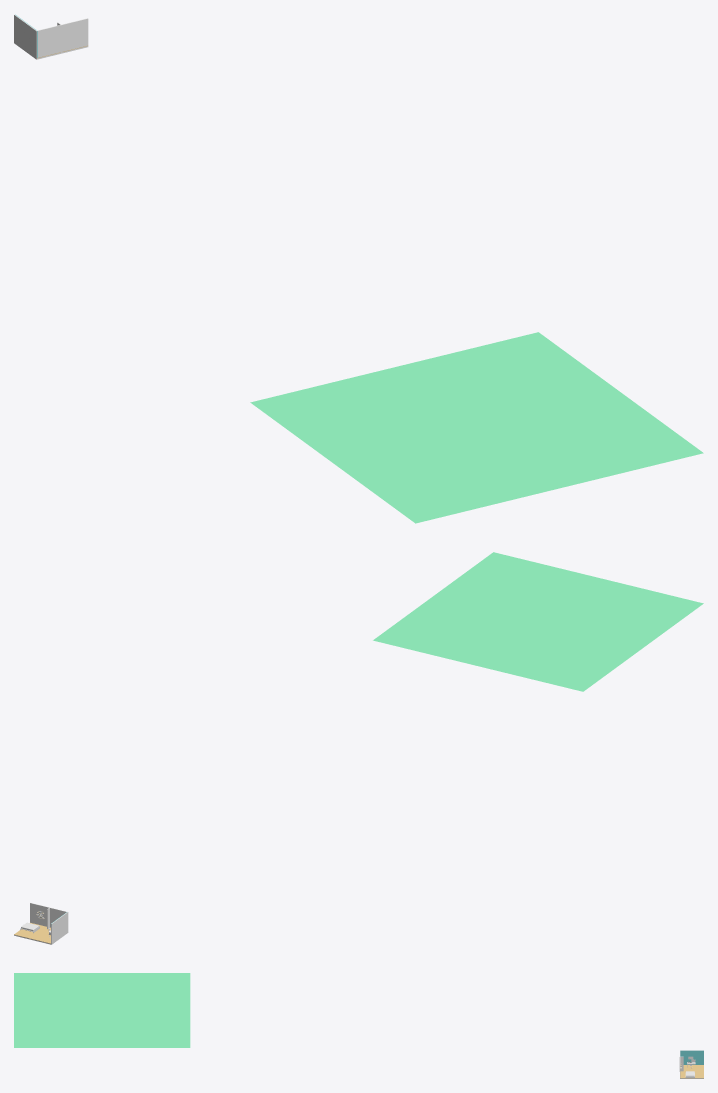
The model's file is scale.glb.
3 renders of one model, top to bottom at view 1: azimuth 30°, elevation 25°; view 2: azimuth 150°, elevation 25°; view 3: azimuth 270°, elevation 25°, orthographic. The views are drawn at different scales.
Bounding box in the file's own units: 109 × 18.77 × 410.
